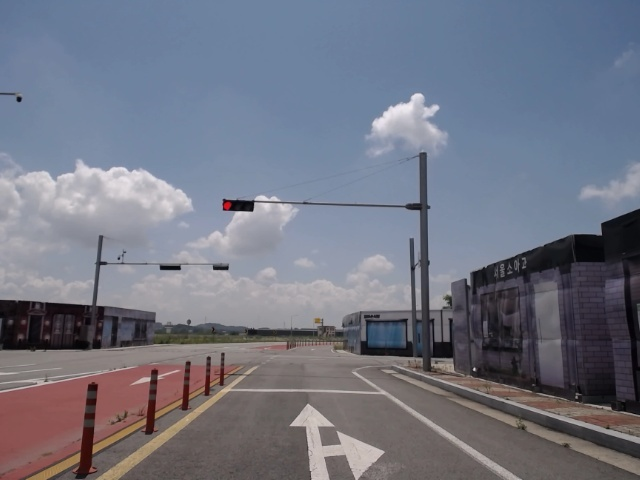red_3: (221, 198, 256, 214)
